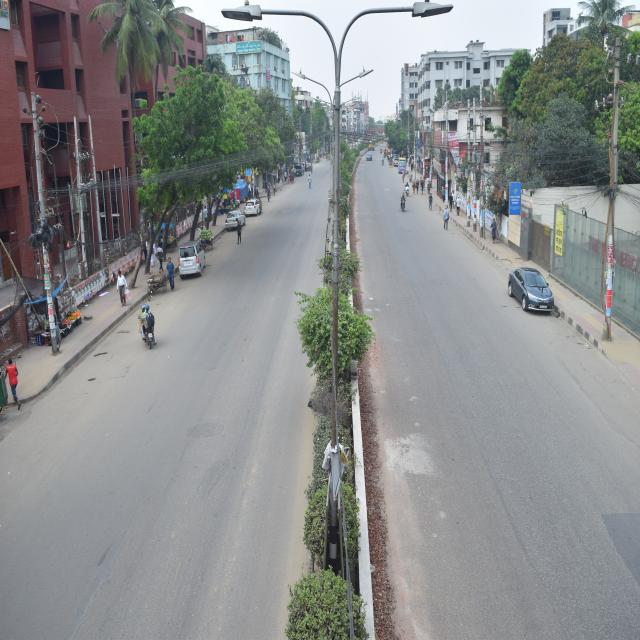car: (506, 258, 563, 311), (221, 207, 253, 242), (243, 196, 269, 225)
microbus: (175, 241, 206, 278)
motorbike: (136, 301, 166, 350), (398, 189, 416, 216)
